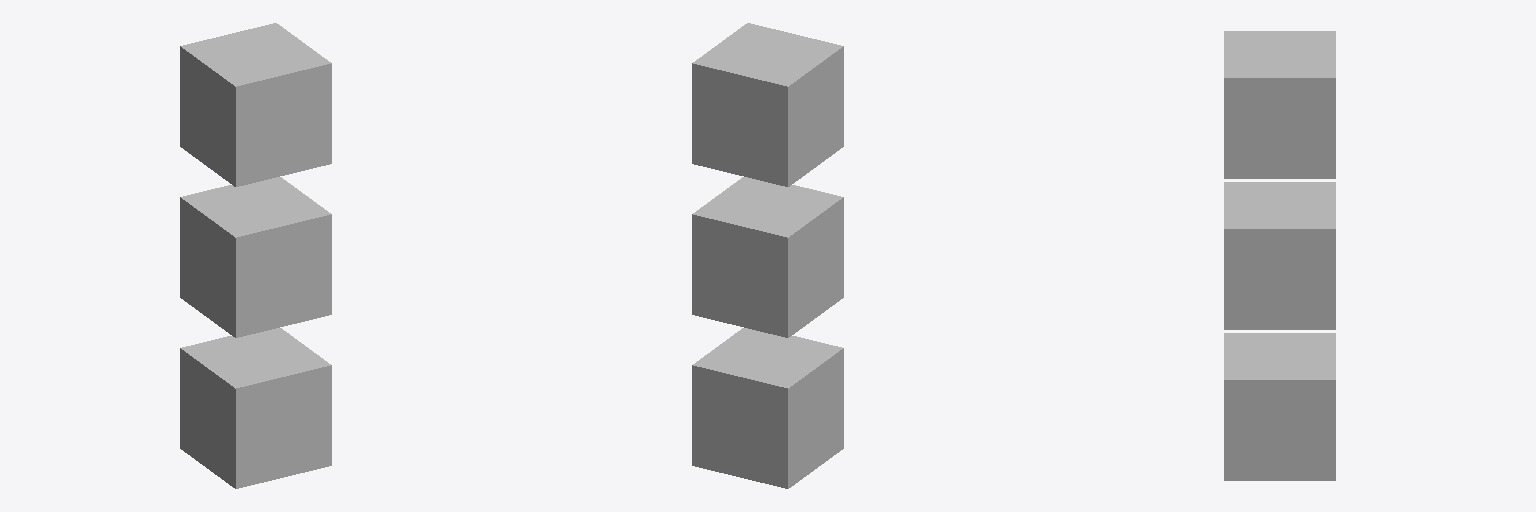
File: three_cubes.obj
The picture shows the model from 3 angles: view 1: azimuth 30°, elevation 25°; view 2: azimuth 150°, elevation 25°; view 3: azimuth 270°, elevation 25°; orthographic projection.
Parts seen in each view (by area): view 1: Cube.002, Cube.001, Cube; view 2: Cube.002, Cube.001, Cube; view 3: Cube, Cube.001, Cube.002.
Boxes of the visible parts, box(x1,y1,x2,y2) form: Cube.002: box(180, 23, 331, 186); Cube.001: box(180, 328, 331, 488); Cube: box(180, 177, 331, 337); Cube.002: box(692, 23, 843, 186); Cube.001: box(692, 328, 843, 488); Cube: box(692, 177, 843, 337); Cube: box(1224, 182, 1335, 329); Cube.001: box(1224, 333, 1335, 480); Cube.002: box(1224, 31, 1335, 178).
Size of the model in its own units: 2 by 8 by 2.